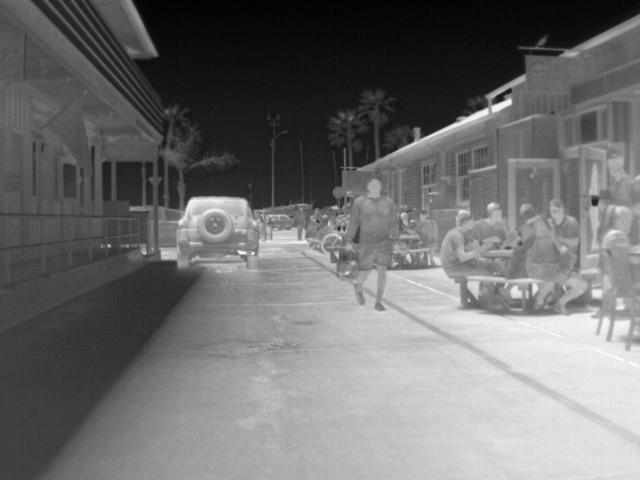car: (175, 196, 258, 271), (267, 211, 295, 231)
person: (339, 178, 400, 311), (517, 211, 587, 313), (600, 205, 638, 309), (437, 212, 493, 282), (472, 202, 512, 248), (542, 200, 579, 244), (416, 210, 435, 262), (290, 206, 308, 242)
